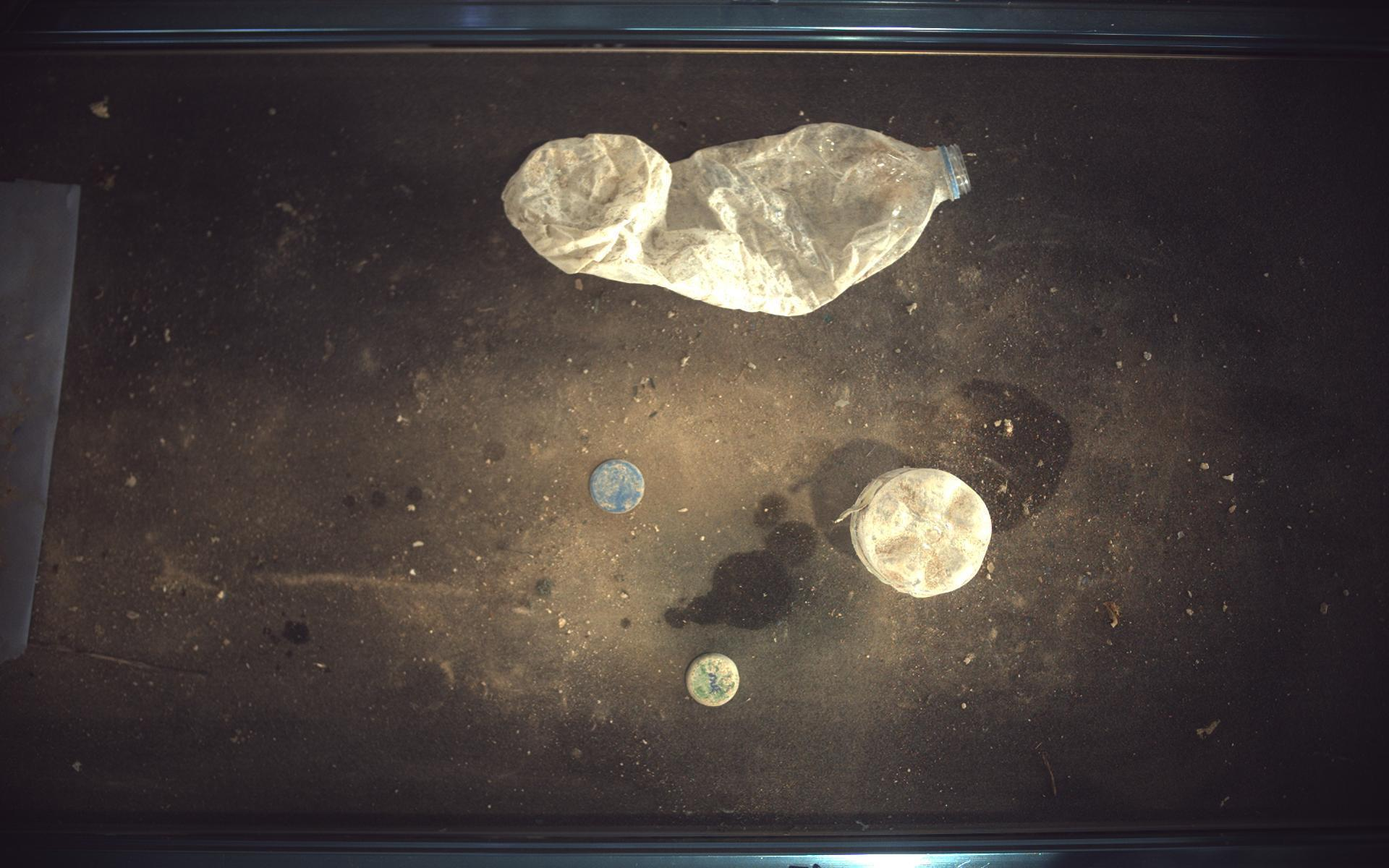general_w: (504, 122, 972, 315), (839, 467, 993, 598), (590, 460, 645, 514)
